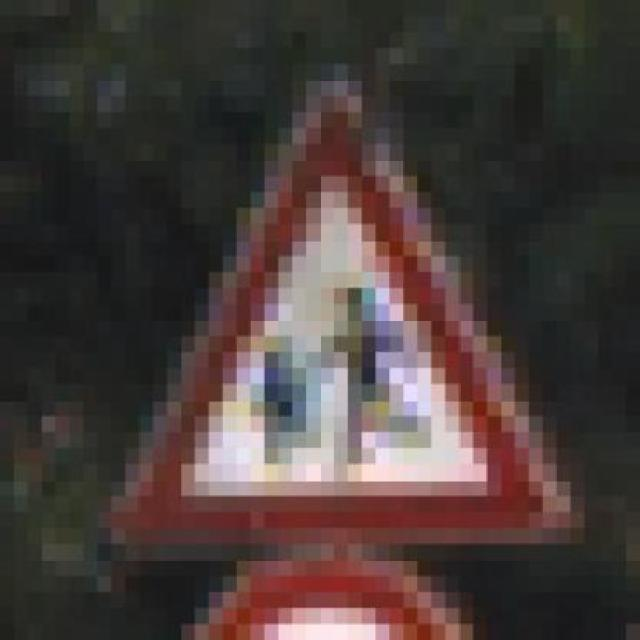Beware of children: (111, 64, 598, 576)
